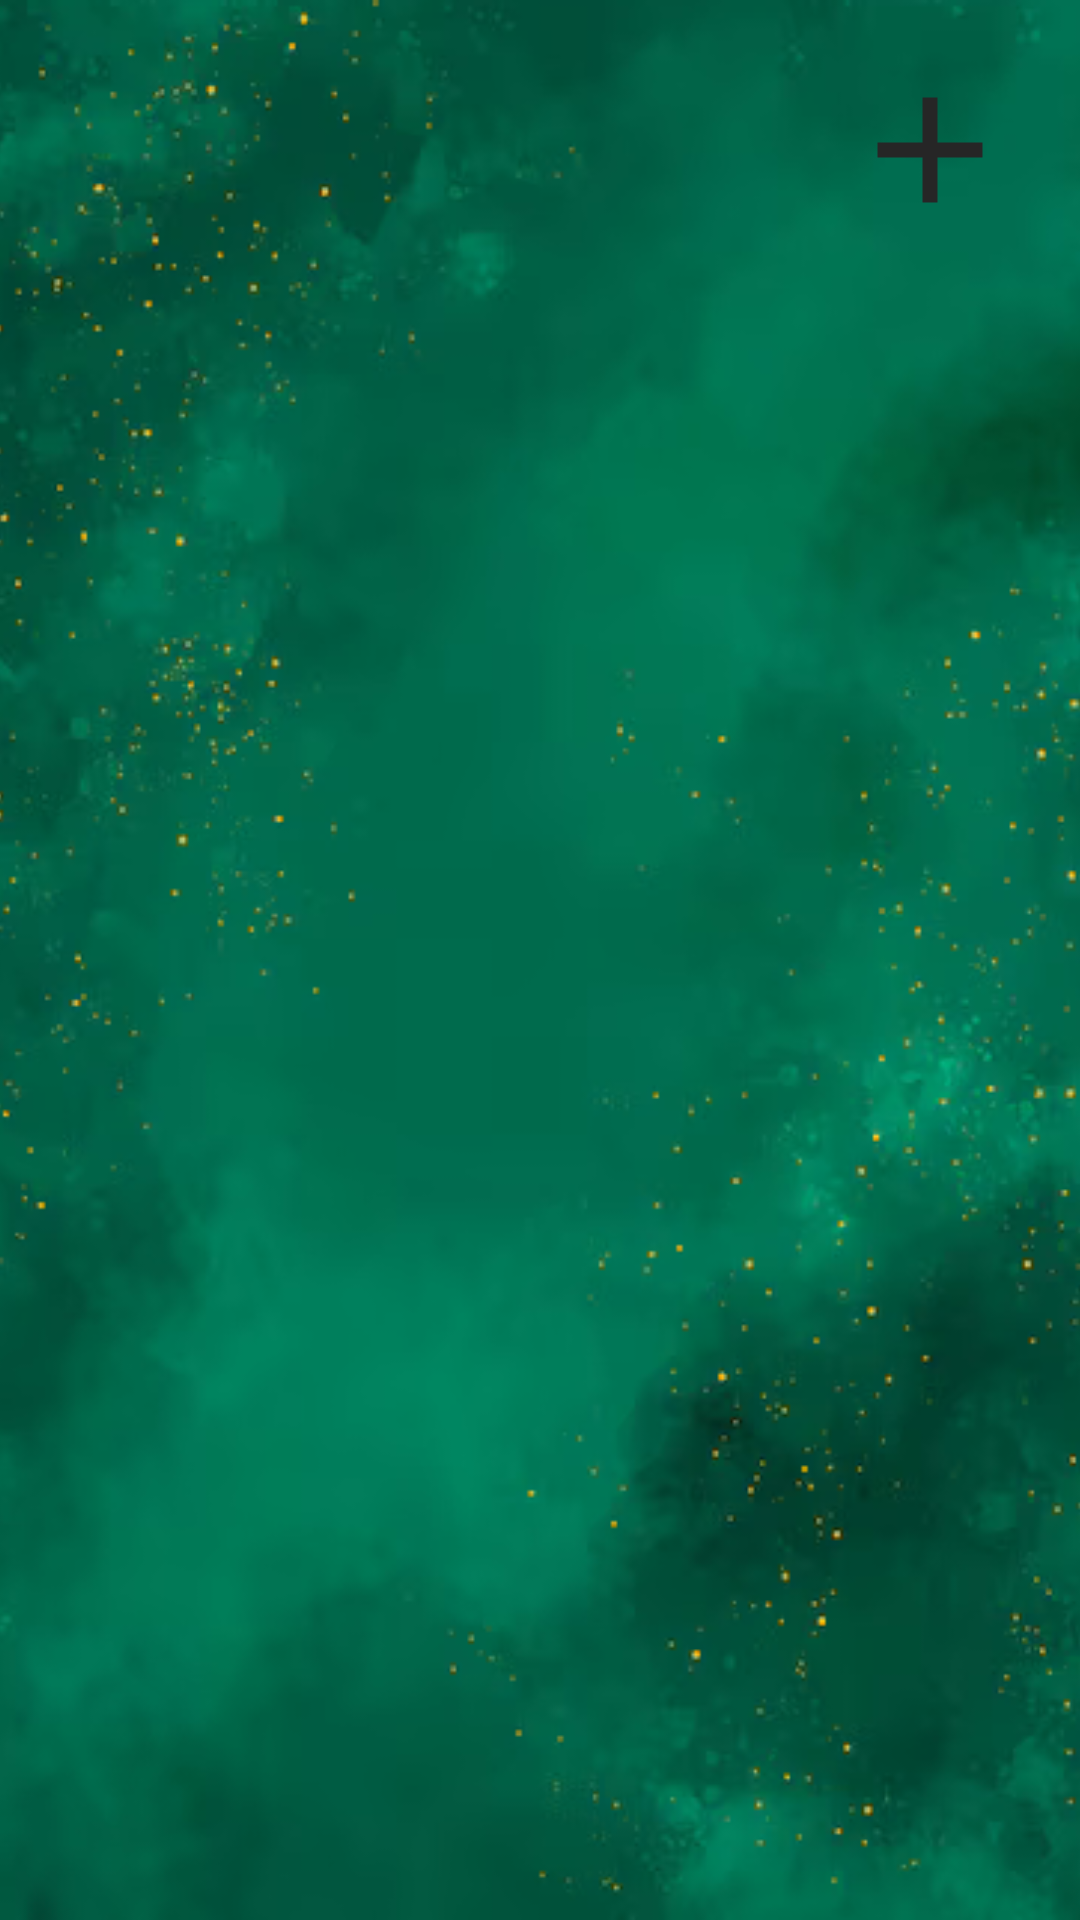

Icon click points for this 1080 × 1920 phone screenshot, format (x=x, y=y):
add: (x=930, y=150)
